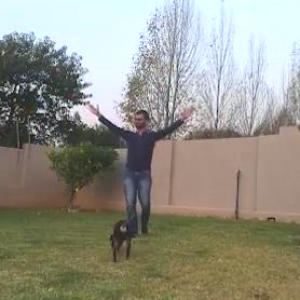takeoff: (80, 88, 208, 236)
